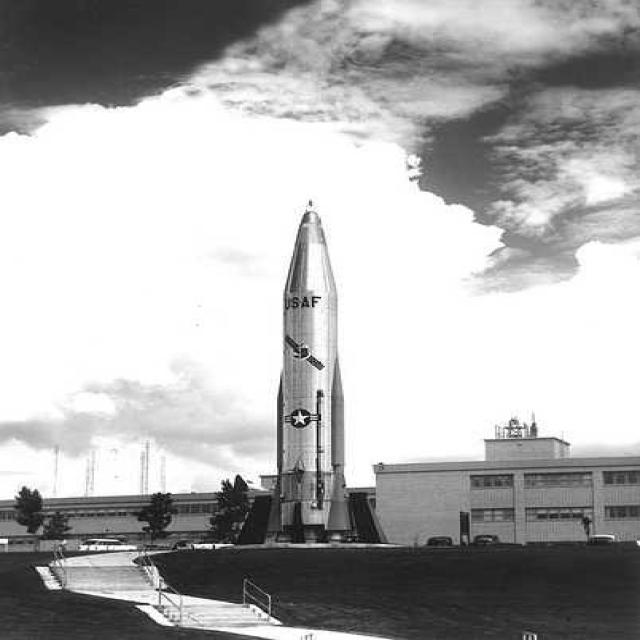missile: (264, 198, 356, 548)
